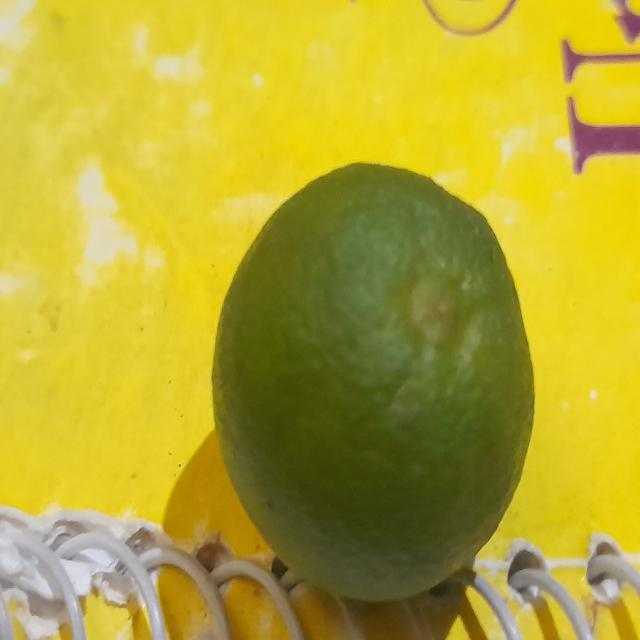heathy: (211, 158, 536, 599)
